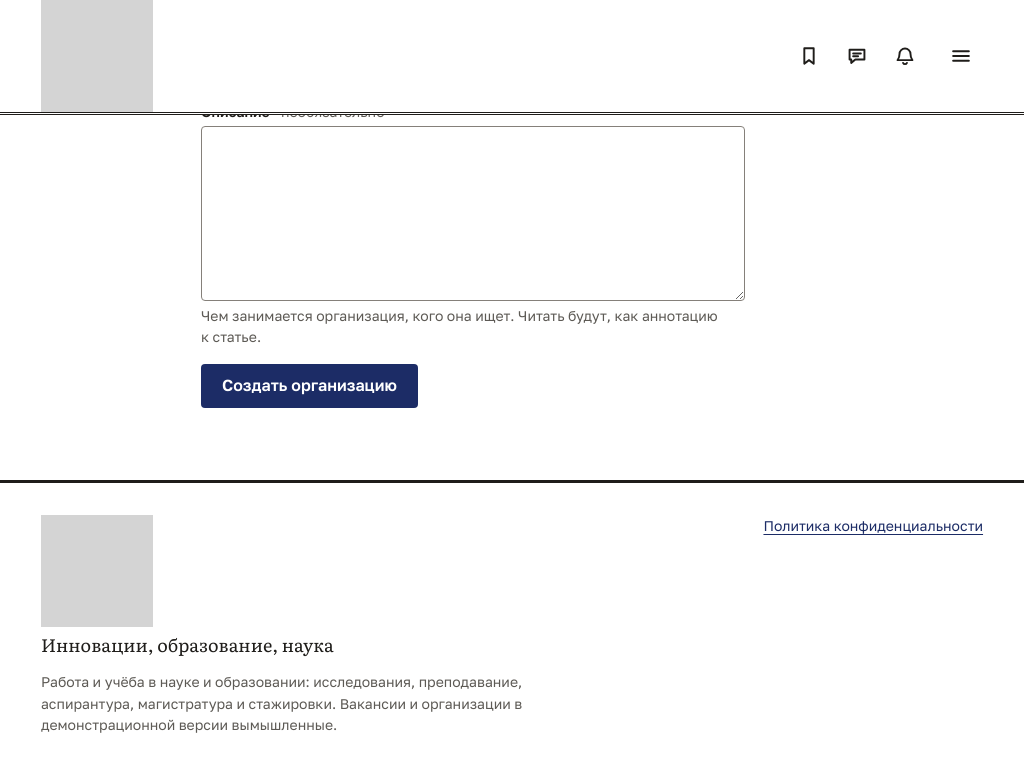
Test: create an organization › requires a name, a type and a city before asking the server
(page scrolled)
Click the button "Создать организацию" at (309, 386), box [201,364,418,408]
(page scrolled)
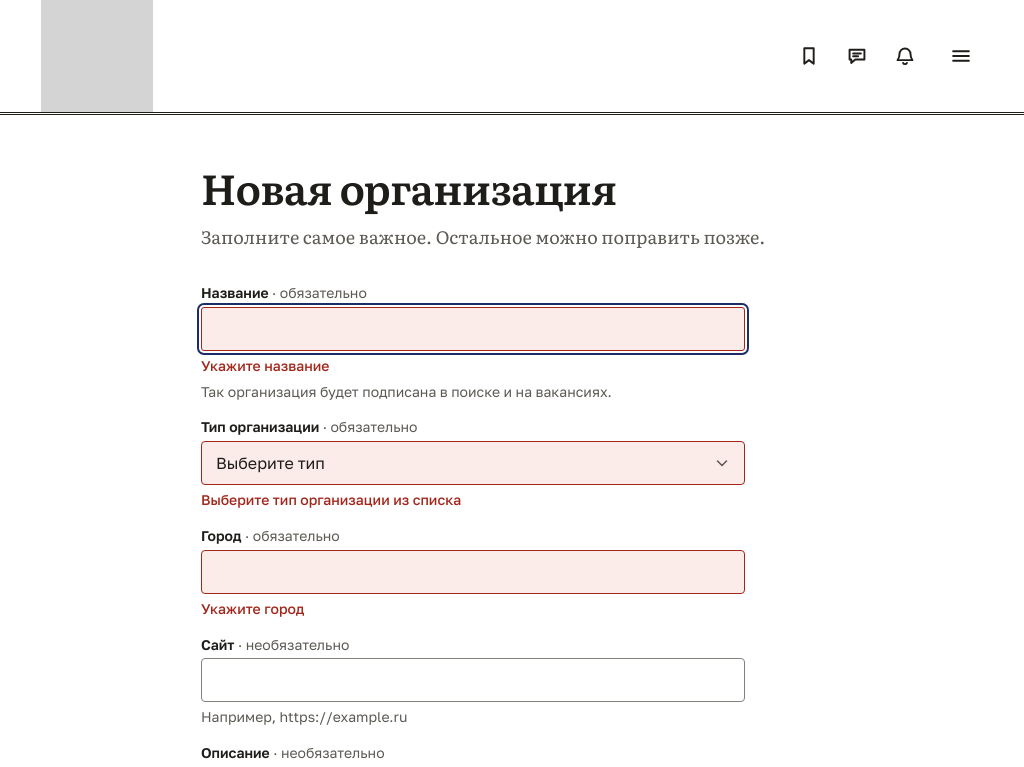
Expected: the text "Укажите название" is shown, [201,357,330,374]
Expected: the text "Выберите тип организации из списка" is shown, [201,491,461,508]
Expected: the text "Укажите город" is shown, [201,600,304,617]
